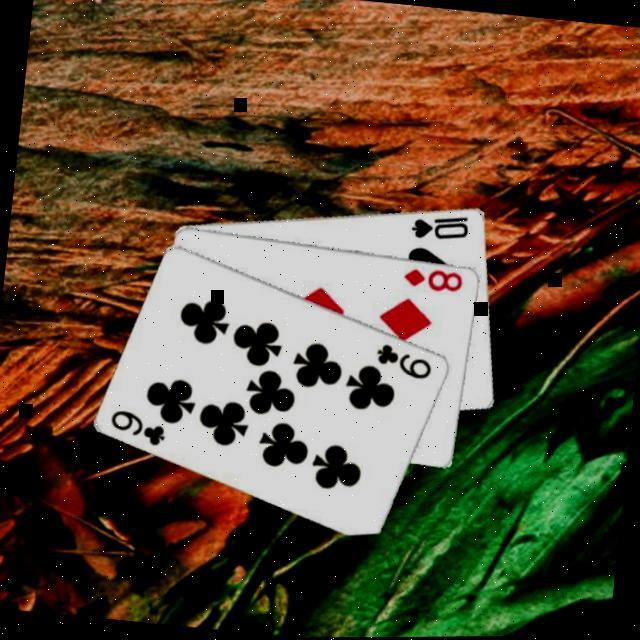10S: (405, 210, 471, 247)
8D: (397, 265, 464, 298)
9C: (368, 341, 434, 385), (103, 407, 169, 451)
